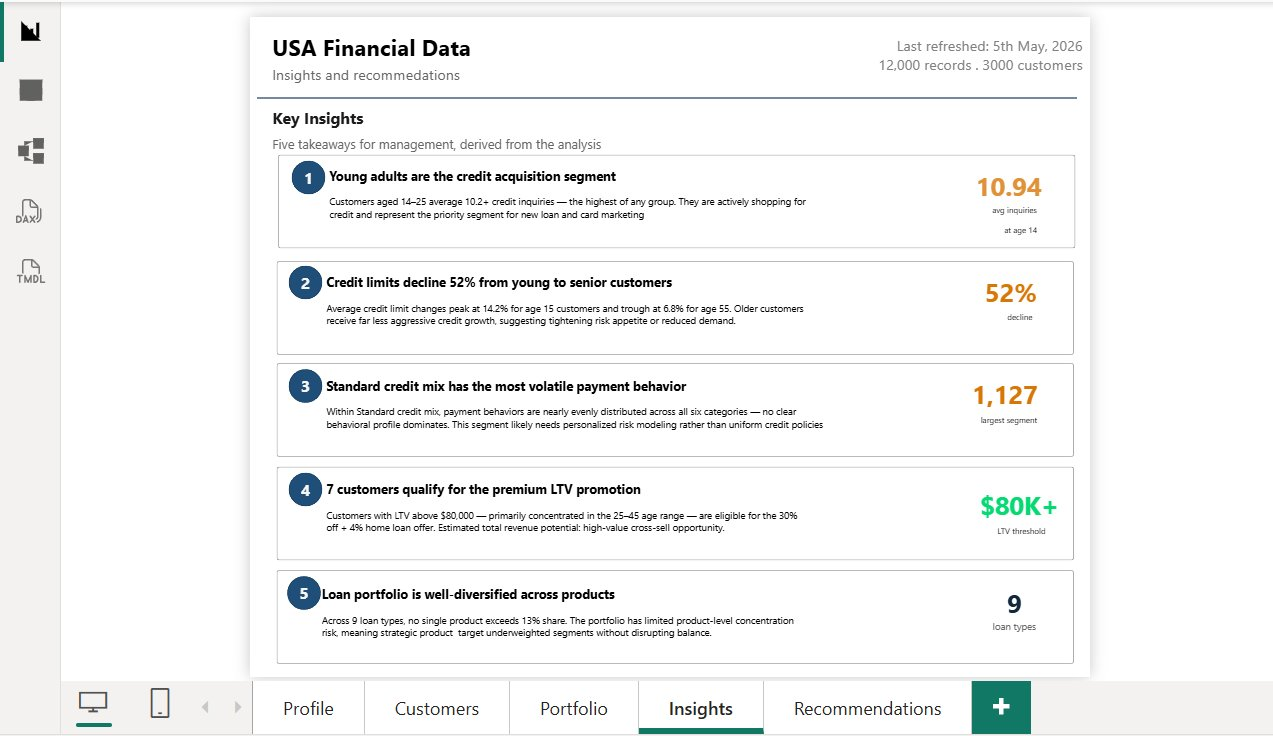

This screenshot's page, from the dashboard's own definition file:
{"tool":"powerbi","page":{"name":"Insights","canvas":[1400,1100],"ordinal":3},"visuals":[{"type":"group","id":"g1","title":"Group 3","box":[0,0,1400,152.5],"z":0},{"type":"textbox","box":[25,12.5,597.5,80],"z":0,"group":"g1"},{"type":"shape","box":[35,217.9,1352.5,180],"z":0,"group":"g2"},{"type":"shape","box":[32.8,395.7,1352.5,180],"z":0,"group":"g3"},{"type":"shape","box":[32.8,566.2,1352.5,180],"z":0,"group":"g4"},{"type":"shape","box":[32.8,737.5,1352.5,180],"z":0,"group":"g5"},{"type":"shape","box":[32.8,908.8,1352.5,180],"z":0,"group":"g6"},{"type":"textbox","box":[25,67.5,447.5,57.5],"z":1000,"group":"g1"},{"type":"textbox","box":[25,137.5,352.5,70],"z":1000},{"type":"textbox","box":[119.4,237.6,822.5,120],"z":1000,"group":"g2"},{"type":"textbox","box":[114.3,414.5,827.5,117.5],"z":1000,"group":"g3"},{"type":"textbox","box":[115.3,588.3,865,137.8],"z":1000,"group":"g4"},{"type":"textbox","box":[115.3,760.2,817.5,117.5],"z":1000,"group":"g5"},{"type":"textbox","box":[106.8,933.8,835,120],"z":1000,"group":"g6"},{"type":"textbox","box":[1017.5,0,382.5,122.5],"z":2000,"group":"g1"},{"type":"textbox","box":[25,185,725,65],"z":2000},{"type":"shape","box":[57.5,227.9,80,80],"z":2000,"group":"g2"},{"type":"shape","box":[52.4,402,80,80],"z":2000,"group":"g3"},{"type":"shape","box":[52.4,575.2,80,80],"z":2000,"group":"g4"},{"type":"shape","box":[52.4,746.5,80,80],"z":2000,"group":"g5"},{"type":"shape","box":[50.3,918.8,80,80],"z":2000,"group":"g6"},{"type":"shape","box":[0,117.5,1390,35],"z":3000,"group":"g1"},{"type":"group","id":"g2","title":"Group 1","box":[35,217.9,1352.5,180],"z":3000},{"type":"group","id":"g3","title":"Group 1","box":[32.8,395.7,1352.5,180],"z":4000},{"type":"group","id":"g4","title":"Group 1","box":[32.8,566.2,1352.5,180],"z":5000},{"type":"group","id":"g5","title":"Group 1","box":[32.8,737.5,1352.5,180],"z":6000},{"type":"group","id":"g6","title":"Group 1","box":[32.8,908.8,1352.5,180],"z":7000},{"type":"group","id":"g7","title":"Group 2","box":[1196.2,240,155,135],"z":8000},{"type":"textbox","box":[1196.2,240,150,112.5],"z":8000,"group":"g8"},{"type":"textbox","box":[1212.1,417.5,150,112.5],"z":8000,"group":"g9"},{"type":"textbox","box":[1174.6,587.5,150,112.5],"z":8000,"group":"g10"},{"type":"textbox","box":[1177.5,772.5,182.5,110],"z":8000,"group":"g11"},{"type":"textbox","box":[1223.7,300,107.5,42.5],"z":9000,"group":"g8"},{"type":"textbox","box":[1249.6,477.5,107.5,42.5],"z":9000,"group":"g9"},{"type":"textbox","box":[1187.1,650,180,45],"z":9000,"group":"g10"},{"type":"textbox","box":[1188.7,833.7,180,45],"z":9000,"group":"g11"},{"type":"group","id":"g8","title":"Group 4","box":[1196.2,240,155,135],"z":9003,"group":"g7"},{"type":"textbox","box":[1243.7,332.5,107.5,42.5],"z":10000,"group":"g8"},{"type":"textbox","box":[1182.5,935,182.5,110],"z":10000},{"type":"group","id":"g9","title":"Group 2","box":[1212.1,417.5,150,112.5],"z":11000},{"type":"group","id":"g10","title":"Group 2","box":[1174.6,587.5,192.5,112.5],"z":12000},{"type":"group","id":"g11","title":"Group 2","box":[1177.5,772.5,190,110],"z":13000}]}

Visuals, with their boxes on the page's 1400x1100 design canvas (x1, y1, x2, y2). These are canvas units, not pixel positions in the 1273x736 screenshot, which may show the page scaled, cropped or inside an application window:
"Group 3" group: box(0, 0, 1400, 152)
textbox: box(25, 12, 622, 92)
shape: box(35, 218, 1388, 398)
shape: box(33, 396, 1385, 576)
shape: box(33, 566, 1385, 746)
shape: box(33, 738, 1385, 918)
shape: box(33, 909, 1385, 1089)
textbox: box(25, 68, 472, 125)
textbox: box(25, 138, 378, 208)
textbox: box(119, 238, 942, 358)
textbox: box(114, 414, 942, 532)
textbox: box(115, 588, 980, 726)
textbox: box(115, 760, 933, 878)
textbox: box(107, 934, 942, 1054)
textbox: box(1018, 0, 1400, 122)
textbox: box(25, 185, 750, 250)
shape: box(58, 228, 138, 308)
shape: box(52, 402, 132, 482)
shape: box(52, 575, 132, 655)
shape: box(52, 746, 132, 826)
shape: box(50, 919, 130, 999)
shape: box(0, 118, 1390, 152)
"Group 1" group: box(35, 218, 1388, 398)
"Group 1" group: box(33, 396, 1385, 576)
"Group 1" group: box(33, 566, 1385, 746)
"Group 1" group: box(33, 738, 1385, 918)
"Group 1" group: box(33, 909, 1385, 1089)
"Group 2" group: box(1196, 240, 1351, 375)
textbox: box(1196, 240, 1346, 352)
textbox: box(1212, 418, 1362, 530)
textbox: box(1175, 588, 1325, 700)
textbox: box(1178, 772, 1360, 882)
textbox: box(1224, 300, 1331, 342)
textbox: box(1250, 478, 1357, 520)
textbox: box(1187, 650, 1367, 695)
textbox: box(1189, 834, 1369, 879)
"Group 4" group: box(1196, 240, 1351, 375)
textbox: box(1244, 332, 1351, 375)
textbox: box(1182, 935, 1365, 1045)
"Group 2" group: box(1212, 418, 1362, 530)
"Group 2" group: box(1175, 588, 1367, 700)
"Group 2" group: box(1178, 772, 1368, 882)
